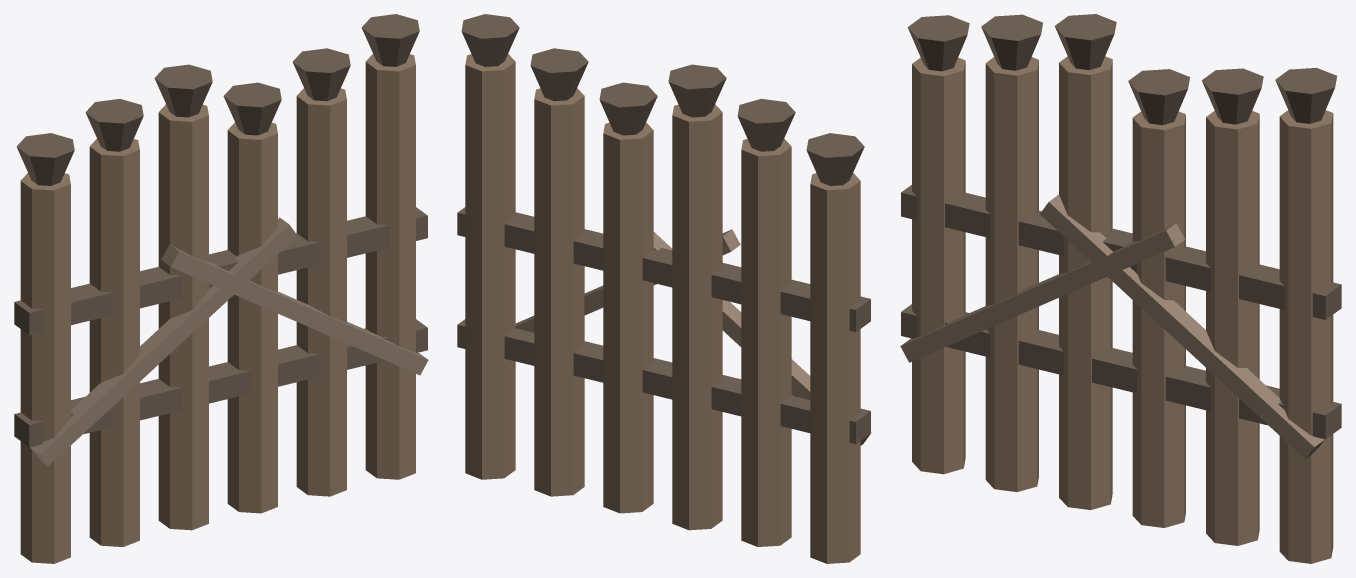
The model's file is Midgard_Viking_Palisade_Segment_V1_YUP.glb.
3 renders of one model, left to right at view 1: azimuth 30°, elevation 25°; view 2: azimuth 150°, elevation 25°; view 3: azimuth 330°, elevation 25°, orthographic. The views are drawn at different scales.
Visible parts, largest first — view 1: Stake_5, Stake_4, Stake_1, Stake_2, Stake_0, Stake_3, Brace_A, Rail_1.95, Rail_1.05, Brace_B, StakeTip_3, StakeTip_2 (+4 smaller); view 2: Stake_2, Stake_5, Stake_4, Stake_1, Stake_0, Stake_3, Rail_1.95, Rail_1.05, StakeTip_3, StakeTip_2, StakeTip_5, StakeTip_0 (+4 smaller); view 3: Stake_5, Stake_2, Stake_1, Stake_4, Stake_0, Stake_3, Brace_B, Rail_1.95, Rail_1.05, Brace_A, StakeTip_3, StakeTip_0 (+4 smaller).
Part boxes in pixels (x1=…): Stake_5: x1=365, y1=54, x2=415, y2=479; Stake_4: x1=296, y1=88, x2=346, y2=496; Stake_1: x1=89, y1=139, x2=139, y2=546; Stake_2: x1=158, y1=104, x2=208, y2=530; Stake_0: x1=20, y1=173, x2=70, y2=563; Stake_3: x1=227, y1=122, x2=277, y2=513; Brace_A: x1=30, y1=217, x2=297, y2=466; Rail_1.95: x1=14, y1=207, x2=427, y2=335; Rail_1.05: x1=14, y1=319, x2=427, y2=447; Brace_B: x1=161, y1=244, x2=428, y2=375; StakeTip_3: x1=223, y1=82, x2=281, y2=135; StakeTip_2: x1=154, y1=64, x2=212, y2=117; Stake_2: x1=672, y1=104, x2=722, y2=530; Stake_5: x1=465, y1=54, x2=515, y2=479; Stake_4: x1=534, y1=88, x2=584, y2=496; Stake_1: x1=741, y1=138, x2=791, y2=546; Stake_0: x1=810, y1=173, x2=860, y2=563; Stake_3: x1=603, y1=122, x2=653, y2=513; Rail_1.95: x1=457, y1=207, x2=870, y2=332; Rail_1.05: x1=457, y1=319, x2=870, y2=444; StakeTip_3: x1=599, y1=82, x2=657, y2=135; StakeTip_2: x1=668, y1=64, x2=726, y2=117; StakeTip_5: x1=461, y1=14, x2=519, y2=66; StakeTip_0: x1=806, y1=133, x2=864, y2=185; Stake_5: x1=1279, y1=110, x2=1333, y2=563; Stake_2: x1=1059, y1=56, x2=1112, y2=509; Stake_1: x1=985, y1=57, x2=1038, y2=492; Stake_4: x1=1206, y1=110, x2=1259, y2=545; Stake_0: x1=912, y1=57, x2=965, y2=474; Stake_3: x1=1132, y1=111, x2=1185, y2=527; Brace_B: x1=1040, y1=194, x2=1324, y2=459; Rail_1.95: x1=901, y1=185, x2=1341, y2=319; Rail_1.05: x1=901, y1=304, x2=1341, y2=439; Brace_A: x1=900, y1=223, x2=1184, y2=362; StakeTip_3: x1=1128, y1=69, x2=1190, y2=125; StakeTip_0: x1=907, y1=15, x2=969, y2=71.
Bounding box in the file's own units: 3.35 × 3.56 × 0.4345.
